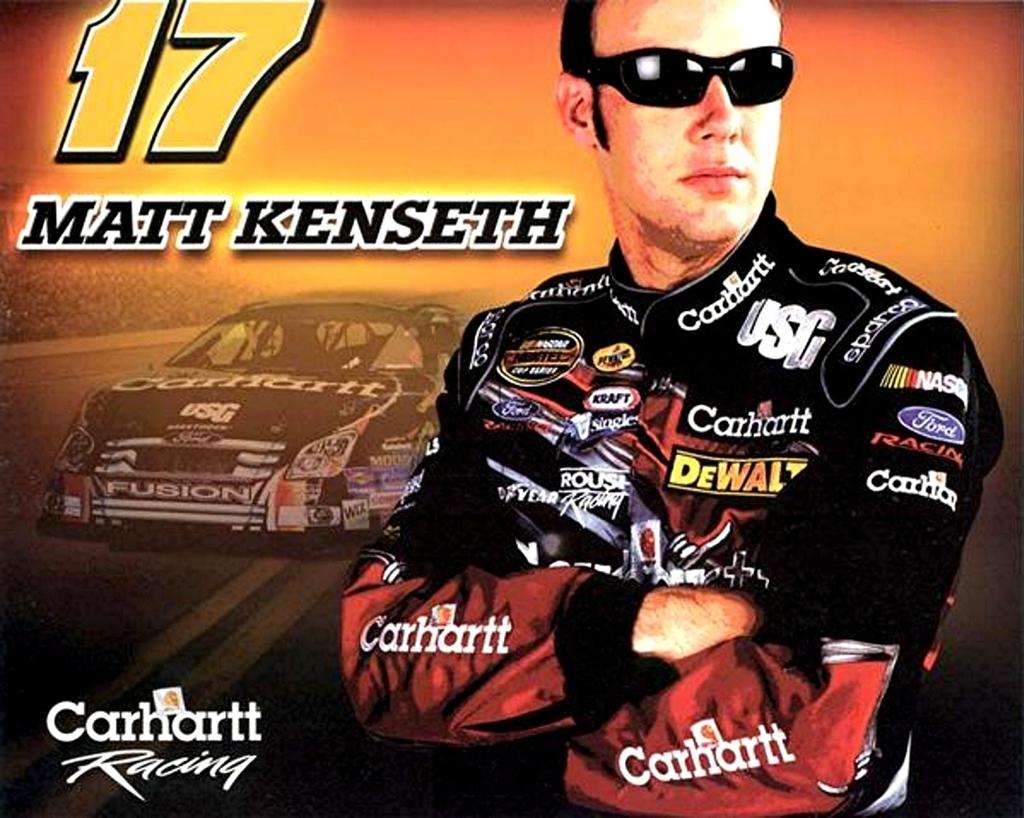face: (590, 4, 780, 240)
